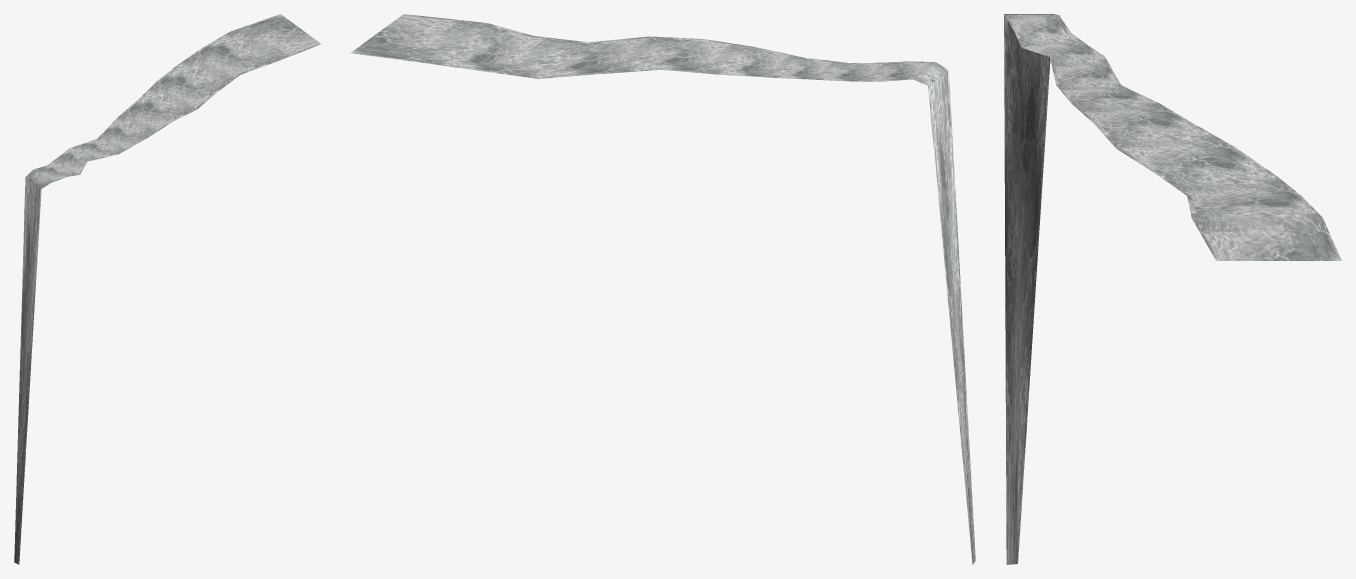
File: LiuShui.fbx
3 renders of one model, left to right at view 1: azimuth 30°, elevation 25°; view 2: azimuth 150°, elevation 25°; view 3: azimuth 270°, elevation 25°, orthographic. The views are drawn at different scales.
Parts seen in each view (by area): view 1: LiuShui; view 2: LiuShui; view 3: LiuShui.
Boxes of the visible parts, x1,y1,x2,y2 form: LiuShui: [14, 14, 321, 564]; LiuShui: [350, 14, 975, 564]; LiuShui: [1004, 14, 1341, 564].
Size of the model in its own units: 13.94 by 13.64 by 7.18.
